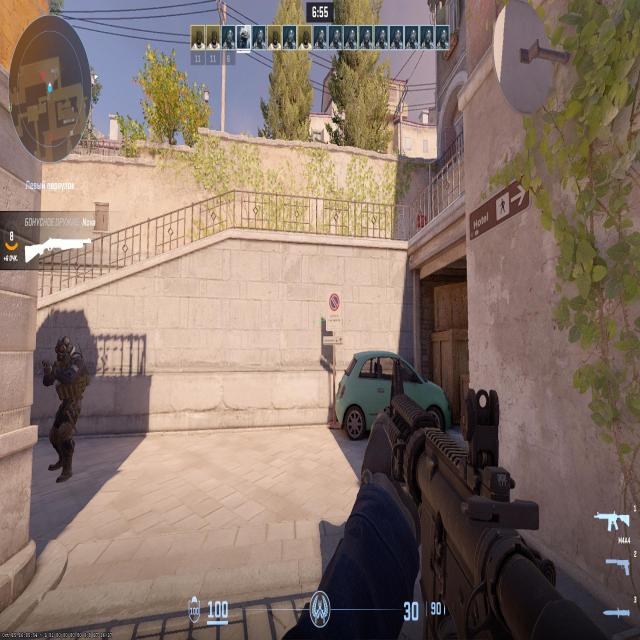CT: (46, 339, 74, 462)
CT_heat: (56, 342, 68, 360)
